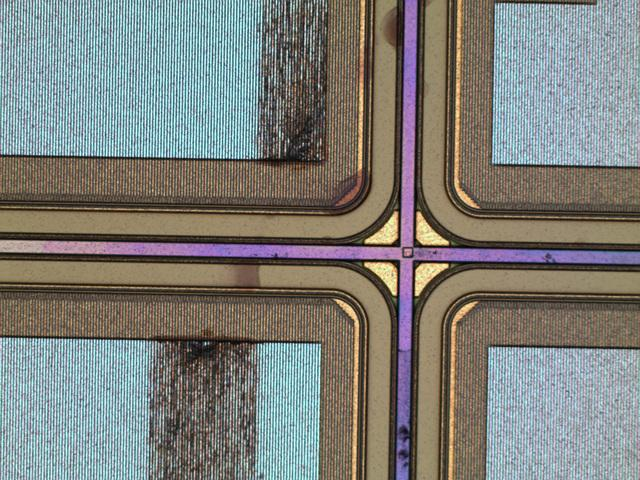SEZ BURNT: (142, 1, 441, 480)
